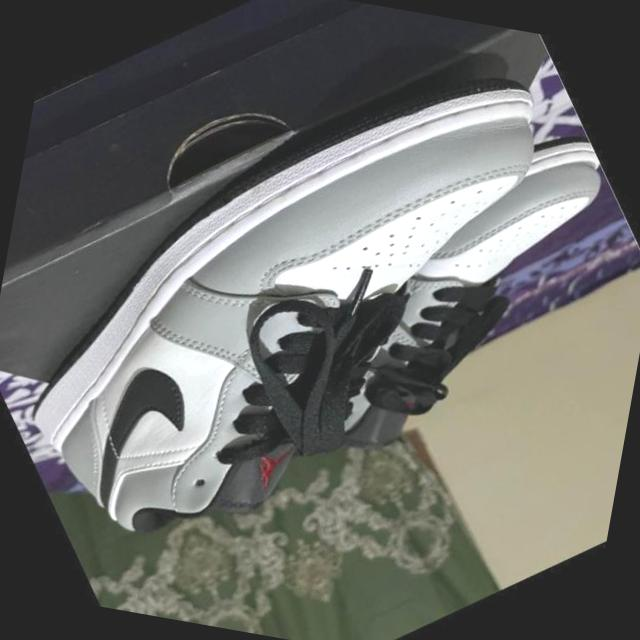nike_original_jordan: (0, 0, 640, 640), (221, 72, 640, 517)
